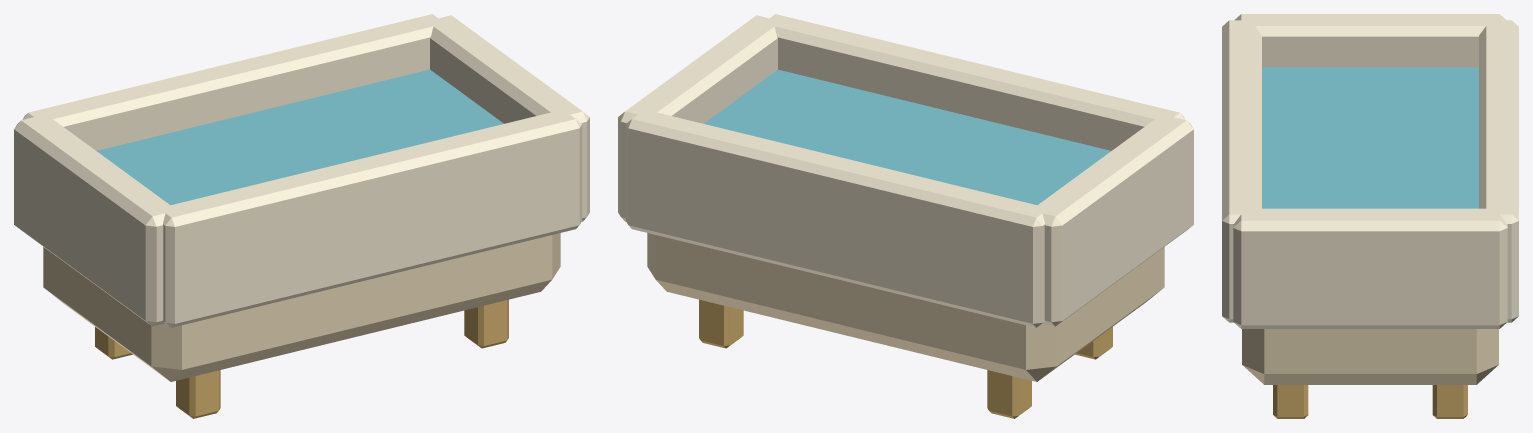
File: SM_CH_Paper_Bathtub.fbx
The picture shows the model from 3 angles, left to right: view 1: azimuth 30°, elevation 25°; view 2: azimuth 150°, elevation 25°; view 3: azimuth 270°, elevation 25°; orthographic projection.
Parts seen in each view (by area): view 1: SM_CH_Paper_Bathtub; view 2: SM_CH_Paper_Bathtub; view 3: SM_CH_Paper_Bathtub.
Boxes of the visible parts, x1=… form: SM_CH_Paper_Bathtub: x1=14, y1=14, x2=589, y2=418; SM_CH_Paper_Bathtub: x1=618, y1=14, x2=1193, y2=418; SM_CH_Paper_Bathtub: x1=1222, y1=14, x2=1518, y2=418.
Bounding box in the file's own units: 11400 × 6700 × 5650.
